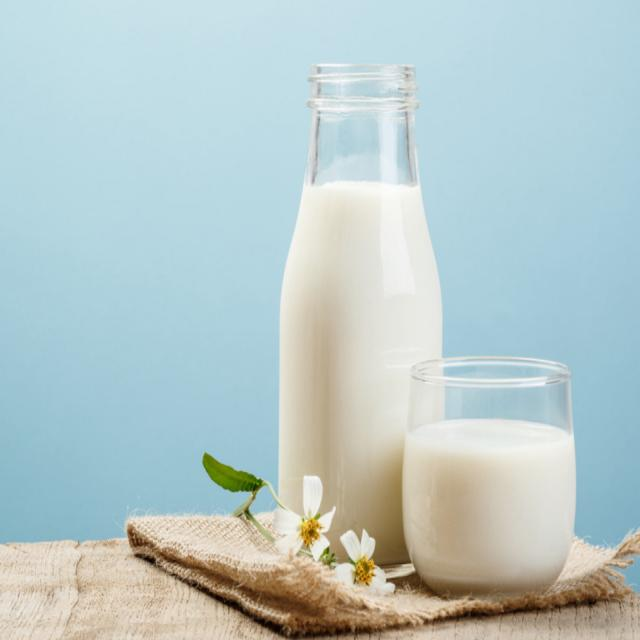Milk carton/jug: (276, 177, 445, 577), (401, 415, 576, 604)
